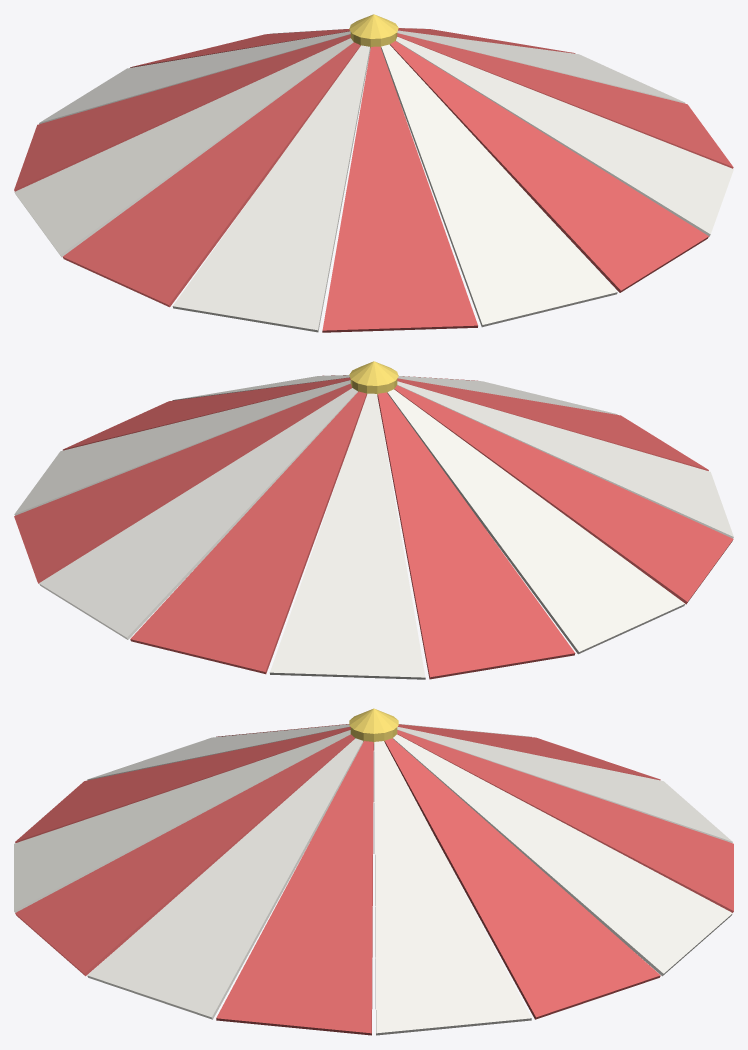
File: travelling-circus-and-big-top-big-top-roof-cone-eff34695__36224.glb
The picture shows the model from 3 angles, top to bottom: view 1: azimuth 30°, elevation 25°; view 2: azimuth 150°, elevation 25°; view 3: azimuth 270°, elevation 25°; orthographic projection. The views are drawn at different scales.
Parts seen in each view (by area): view 1: big-top-roof-cone-canvas, big-top-roof-cone-stripe, big-top-roof-cone-gold; view 2: big-top-roof-cone-stripe, big-top-roof-cone-canvas, big-top-roof-cone-gold; view 3: big-top-roof-cone-canvas, big-top-roof-cone-stripe, big-top-roof-cone-gold.
Part boxes in pixels (x1,y1,x2,y2): big-top-roof-cone-canvas: (14, 28, 733, 332); big-top-roof-cone-stripe: (14, 28, 733, 332); big-top-roof-cone-gold: (349, 14, 398, 48); big-top-roof-cone-stripe: (14, 375, 733, 679); big-top-roof-cone-canvas: (14, 375, 733, 679); big-top-roof-cone-gold: (349, 361, 398, 395); big-top-roof-cone-canvas: (14, 724, 732, 1035); big-top-roof-cone-stripe: (15, 724, 733, 1035); big-top-roof-cone-gold: (349, 708, 398, 743).
Size of the model in its own units: 19.13 by 4.92 by 18.68.
